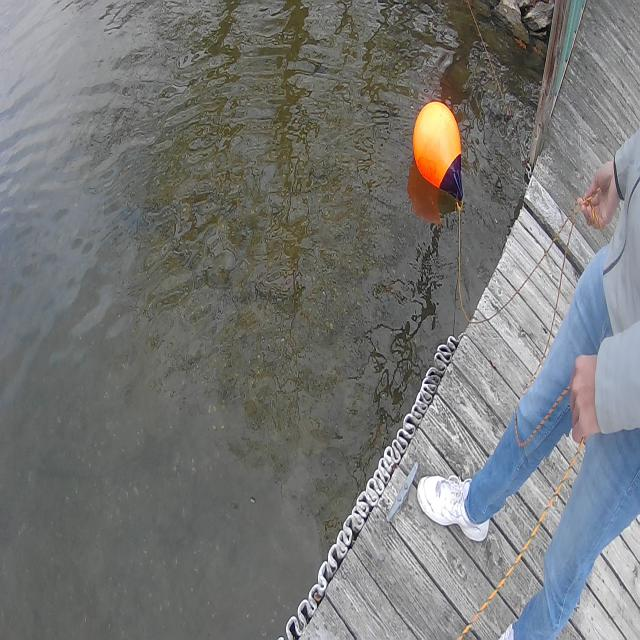Buoy: (411, 95, 469, 210)
